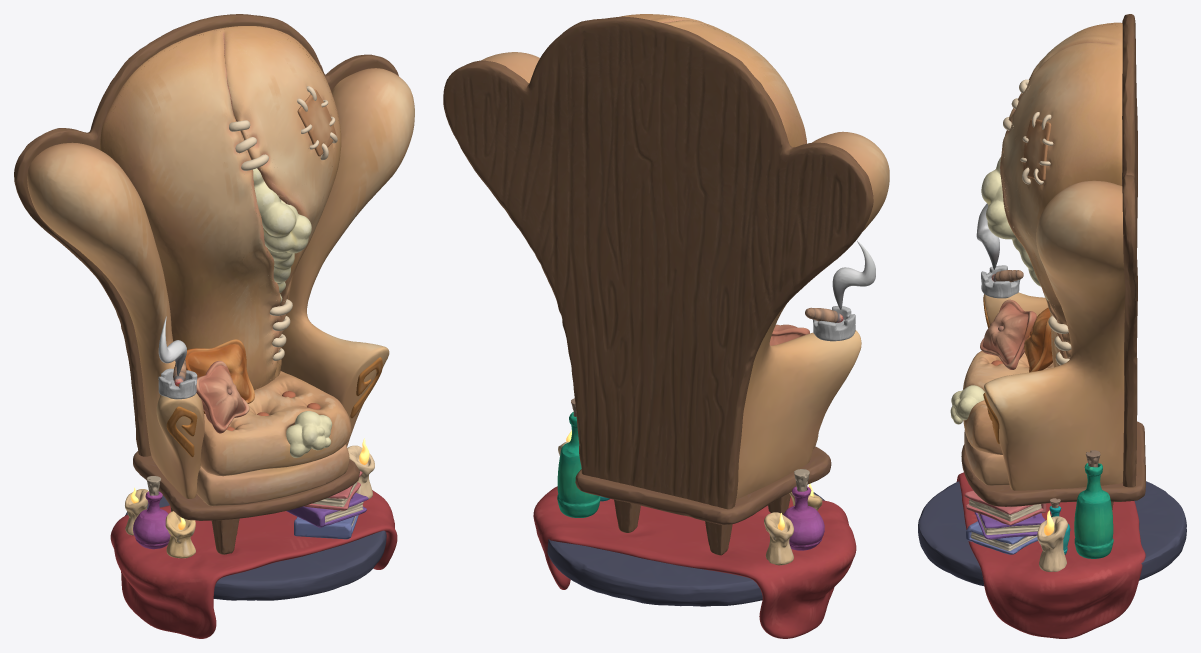
File: chair-transformed.glb
3 views of the same model, side by side, from view 1: azimuth 30°, elevation 25°; view 2: azimuth 150°, elevation 25°; view 3: azimuth 270°, elevation 25° (orthographic). The views are drawn at different scales.
Visible parts, largest first — view 1: chair, carpet, wood, stone, foam, pillows, candles, bookcovers, stitches, ornaments, bottles, patch (+3 smaller); view 2: wood, chair, carpet, stone, bottles, candles, smoke, ashtray; view 3: chair, carpet, wood, stone, pillows, bottles, foam, bookcovers, paper, stitches, candles, patch (+2 smaller).
Boxes of the visible parts, <box> form: chair: <box>27,26,414,506</box>; carpet: <box>110,490,397,638</box>; wood: <box>14,14,398,554</box>; stone: <box>125,495,386,600</box>; foam: <box>244,168,332,457</box>; pillows: <box>185,339,254,433</box>; candles: <box>125,445,374,558</box>; bookcovers: <box>286,471,368,539</box>; stitches: <box>229,86,337,360</box>; ornaments: <box>166,357,382,457</box>; bottles: <box>133,491,170,549</box>; patch: <box>297,89,336,156</box>; wood: <box>443,16,873,555</box>; chair: <box>481,14,889,499</box>; carpet: <box>533,486,856,638</box>; stone: <box>547,492,824,606</box>; bottles: <box>557,412,824,550</box>; candles: <box>558,441,822,565</box>; smoke: <box>832,241,875,309</box>; ashtray: <box>812,306,855,341</box>; chair: <box>963,22,1125,490</box>; carpet: <box>956,472,1145,638</box>; wood: <box>961,14,1145,509</box>; stone: <box>918,481,1186,585</box>; pillows: <box>980,299,1055,372</box>; bottles: <box>1049,463,1113,558</box>; foam: <box>950,157,1048,424</box>; bookcovers: <box>964,490,1046,554</box>; paper: <box>969,499,1041,551</box>; stitches: <box>1003,79,1071,365</box>; candles: <box>1037,516,1067,571</box>; patch: <box>1023,119,1051,180</box>.
Bounding box in the file's own units: 145 × 199 × 87.3.
